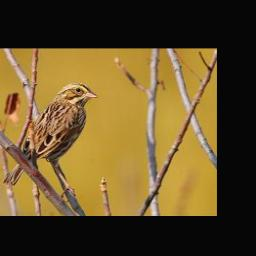Sparrow: (0, 81, 97, 203)
